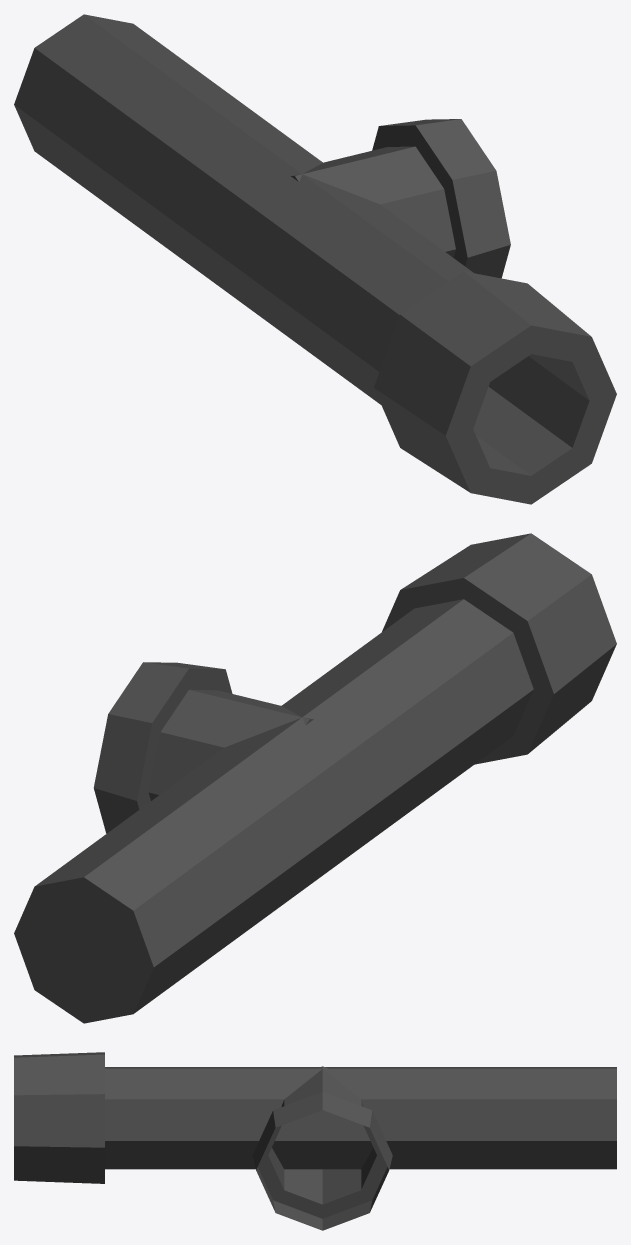
3 renders of one model, top to bottom at view 1: azimuth 30°, elevation 25°; view 2: azimuth 150°, elevation 25°; view 3: azimuth 270°, elevation 25°, orthographic. The views are drawn at different scales.
Parts seen in each view (by area): view 1: Cylinder; view 2: Cylinder; view 3: Cylinder.
Boxes of the visible parts, x1=… form: Cylinder: x1=14, y1=14, x2=616, y2=504; Cylinder: x1=14, y1=533, x2=616, y2=1023; Cylinder: x1=14, y1=1052, x2=616, y2=1230.
Size of the model in its own units: 0.9813 by 0.7095 by 3.05.
Materials: 1 (1 with a texture image).
